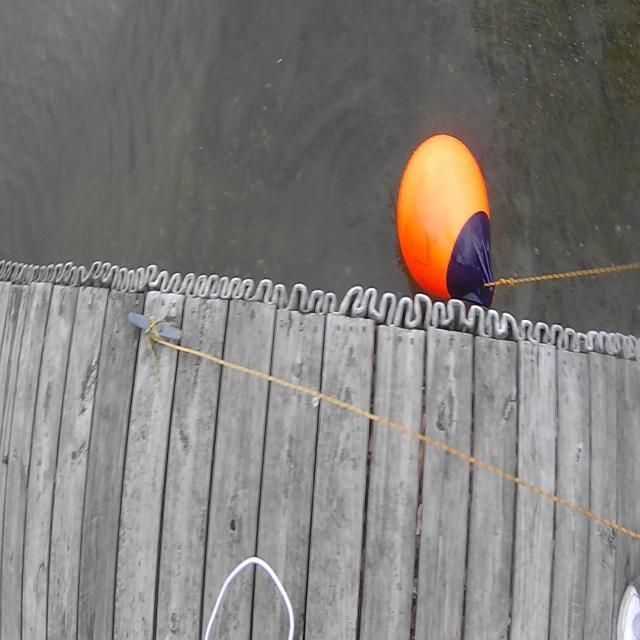Buoy: (394, 126, 503, 310)
